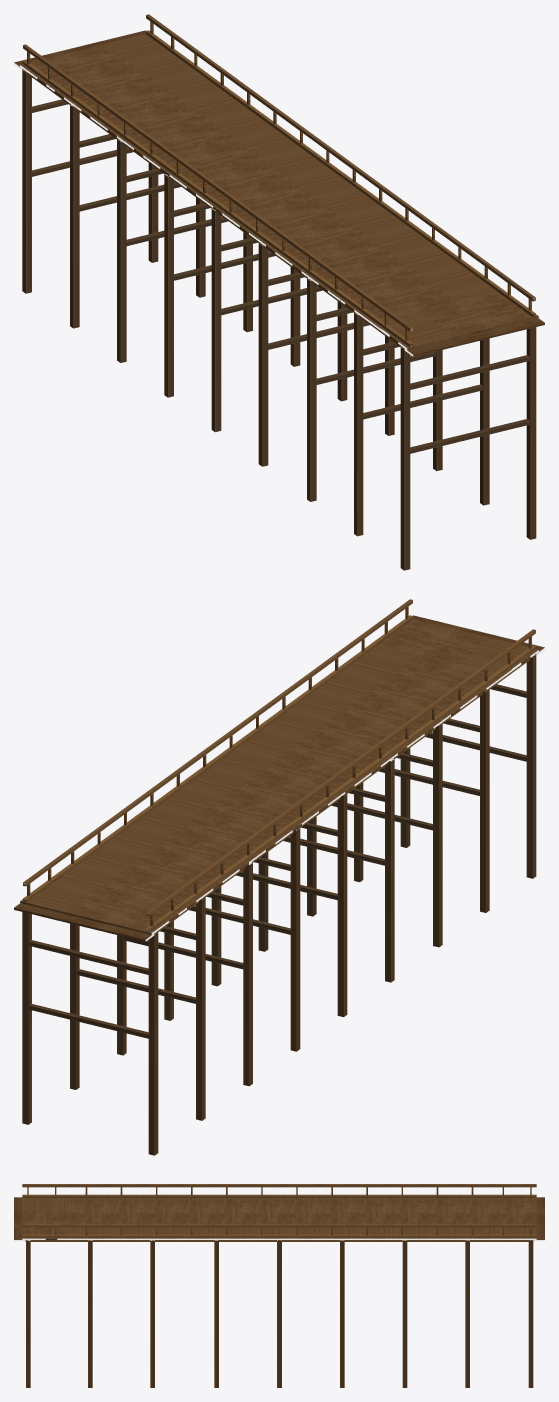
File: objects_un_bridge01_04.gltf
3 renders of one model, top to bottom at view 1: azimuth 30°, elevation 25°; view 2: azimuth 150°, elevation 25°; view 3: azimuth 270°, elevation 25°, orthographic. The views are drawn at different scales.
Visible parts, largest first — view 1: um_objects_un_bridge04_model_lod0Shape:objects_un_bridge01_w, um_objects_un_bridge04_model_lod0Shape:objects_un_bridge01_p, um_objects_un_bridge04_model_lod0Shape:objects_un_bridge01_s; view 2: um_objects_un_bridge04_model_lod0Shape:objects_un_bridge01_w, um_objects_un_bridge04_model_lod0Shape:objects_un_bridge01_p, um_objects_un_bridge04_model_lod0Shape:objects_un_bridge01_s; view 3: um_objects_un_bridge04_model_lod0Shape:objects_un_bridge01_p, um_objects_un_bridge04_model_lod0Shape:objects_un_bridge01_w, um_objects_un_bridge04_model_lod0Shape:objects_un_bridge01_s.
Part boxes in pixels (bbox=[...]): um_objects_un_bridge04_model_lod0Shape:objects_un_bridge01_w: bbox=[22, 14, 536, 570]; um_objects_un_bridge04_model_lod0Shape:objects_un_bridge01_p: bbox=[14, 30, 544, 356]; um_objects_un_bridge04_model_lod0Shape:objects_un_bridge01_s: bbox=[14, 63, 538, 356]; um_objects_un_bridge04_model_lod0Shape:objects_un_bridge01_w: bbox=[22, 599, 536, 1155]; um_objects_un_bridge04_model_lod0Shape:objects_un_bridge01_p: bbox=[14, 615, 544, 941]; um_objects_un_bridge04_model_lod0Shape:objects_un_bridge01_s: bbox=[20, 648, 544, 941]; um_objects_un_bridge04_model_lod0Shape:objects_un_bridge01_p: bbox=[14, 1197, 544, 1240]; um_objects_un_bridge04_model_lod0Shape:objects_un_bridge01_w: bbox=[22, 1184, 536, 1387]; um_objects_un_bridge04_model_lod0Shape:objects_un_bridge01_s: bbox=[14, 1238, 544, 1241].
Size of what is drawn, in the model's own units: 6.53 by 11.45 by 34.05.
Materials: 3 (2 with a texture image).
